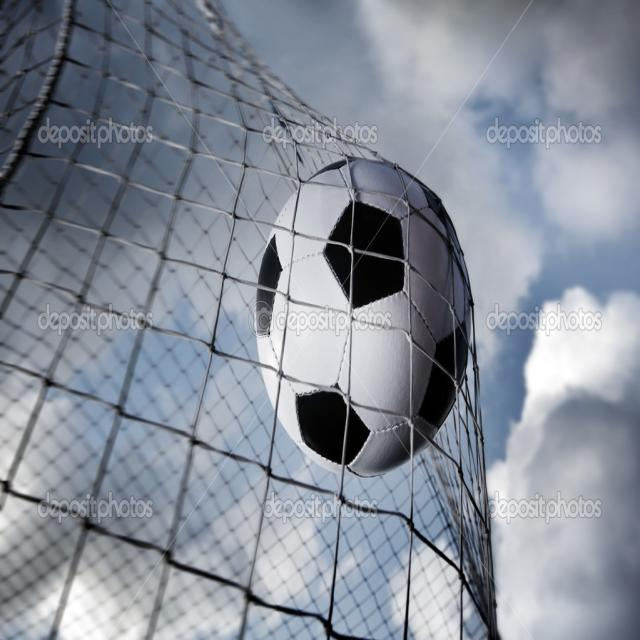soccer ball: (253, 160, 472, 480)
